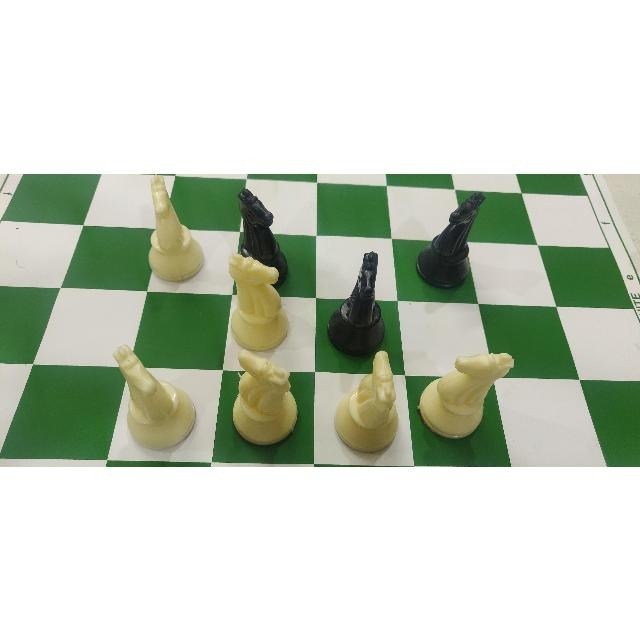black-knight: (413, 187, 486, 291), (414, 189, 490, 286), (415, 190, 487, 289), (326, 248, 388, 358), (326, 249, 387, 357), (327, 250, 385, 358), (235, 185, 289, 293), (234, 183, 289, 289), (237, 187, 289, 289)
white-knight: (106, 340, 203, 448), (112, 340, 198, 453), (111, 340, 198, 450), (419, 346, 517, 442), (416, 348, 515, 442), (418, 350, 516, 441), (226, 345, 306, 443), (136, 173, 208, 281), (141, 176, 209, 282), (334, 346, 400, 454), (231, 346, 299, 448), (334, 347, 399, 453), (225, 252, 296, 347), (230, 346, 298, 445), (226, 250, 292, 351), (337, 347, 399, 454), (145, 174, 205, 282), (226, 251, 289, 351)
